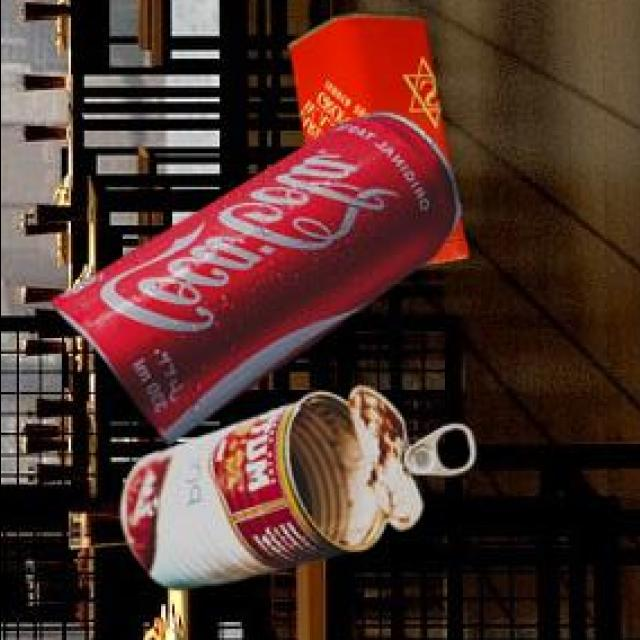logam: (48, 109, 456, 441), (116, 382, 470, 587), (283, 10, 463, 260)
